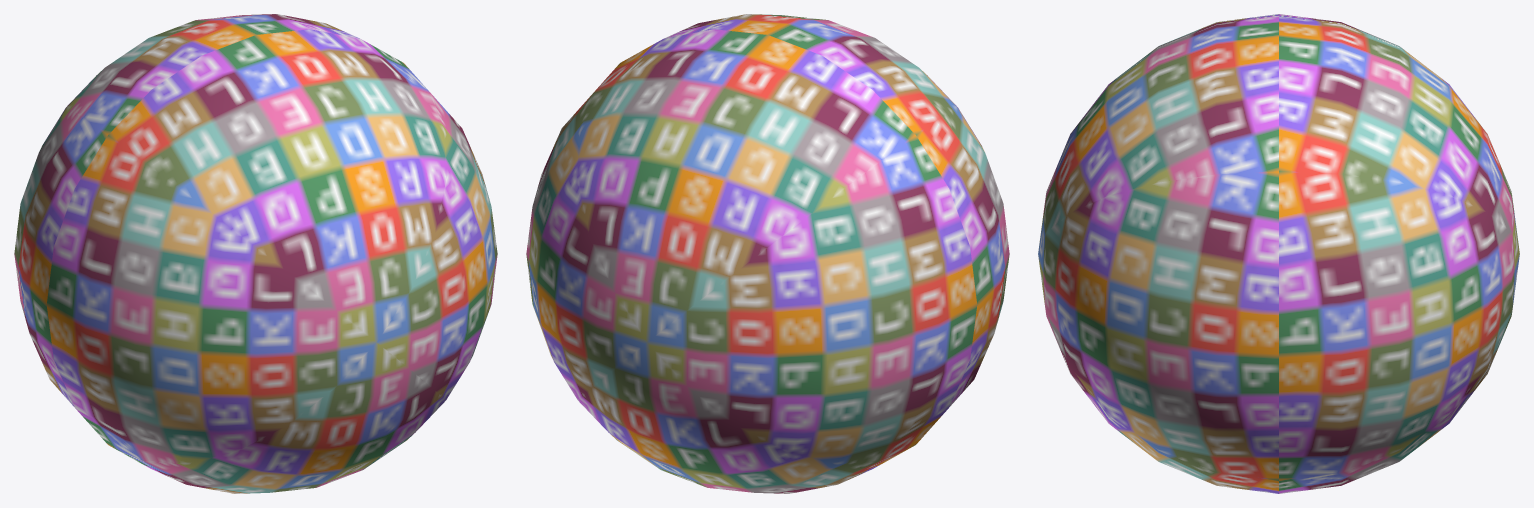
File: tanks.obj
3 renders of one model, left to right at view 1: azimuth 30°, elevation 25°; view 2: azimuth 150°, elevation 25°; view 3: azimuth 270°, elevation 25°, orthographic.
Parts seen in each view (by area): view 1: small; view 2: small; view 3: small.
Boxes of the visible parts, box(x1,y1,x2,y2) form: small: box(14, 14, 497, 493); small: box(526, 14, 1009, 493); small: box(1038, 14, 1519, 493).
Bounding box in the file's own units: 0.1875 × 0.1875 × 0.1875.
Materials: 1 (1 with a texture image).
